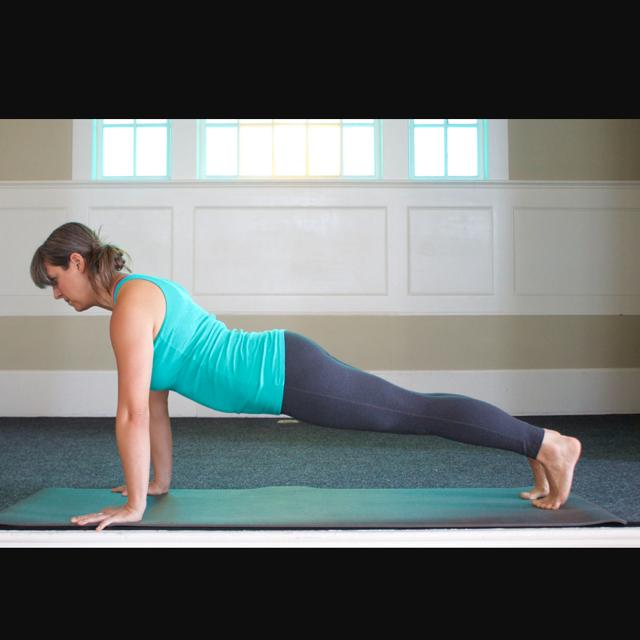Plank_Pose: (28, 221, 588, 531)
